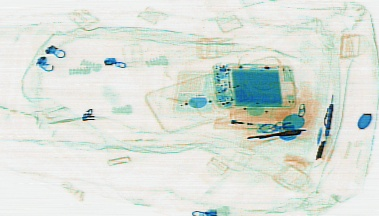lighter: (211, 114, 268, 131)
